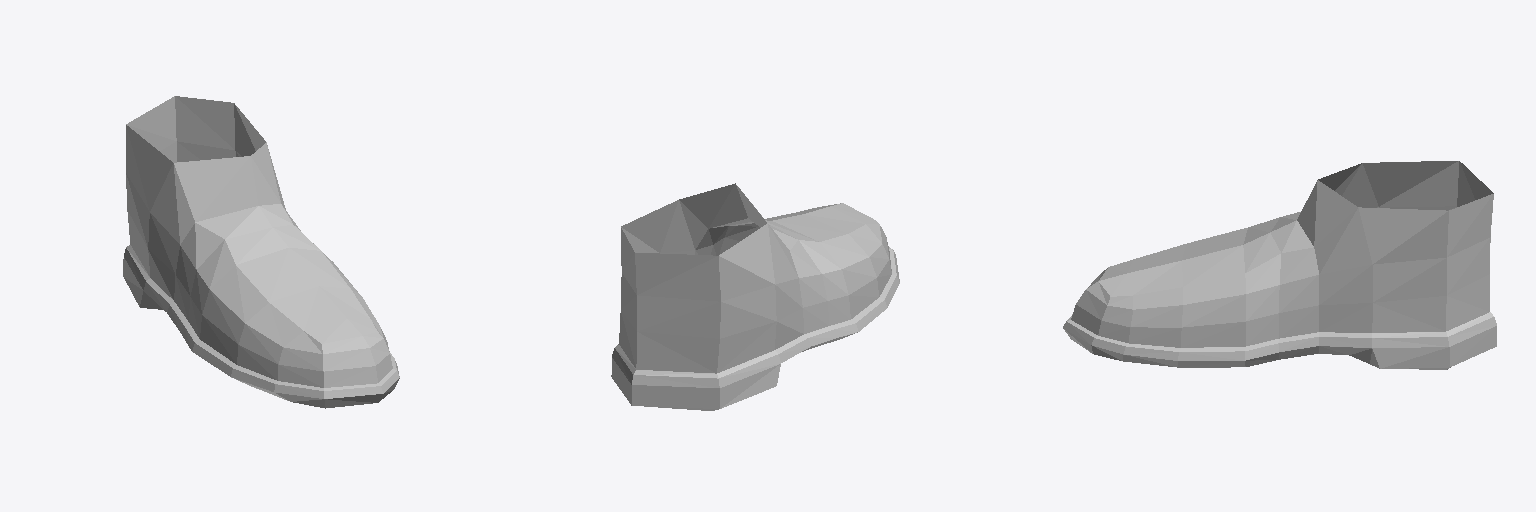
Rendered from Uth_Shoe_Rt_MshShape.obj.
The picture shows the model from 3 angles: view 1: azimuth 30°, elevation 25°; view 2: azimuth 150°, elevation 25°; view 3: azimuth 270°, elevation 25°; orthographic projection.
Parts seen in each view (by area): view 1: Uth_Shoe_Rt_Msh Uth_Body_Grp SkinnedMesh Mesh CharacterRoot; view 2: Uth_Shoe_Rt_Msh Uth_Body_Grp SkinnedMesh Mesh CharacterRoot; view 3: Uth_Shoe_Rt_Msh Uth_Body_Grp SkinnedMesh Mesh CharacterRoot.
Boxes of the visible parts, <box> form: Uth_Shoe_Rt_Msh Uth_Body_Grp SkinnedMesh Mesh CharacterRoot: <box>123,96,399,408</box>; Uth_Shoe_Rt_Msh Uth_Body_Grp SkinnedMesh Mesh CharacterRoot: <box>611,183,899,410</box>; Uth_Shoe_Rt_Msh Uth_Body_Grp SkinnedMesh Mesh CharacterRoot: <box>1063,161,1496,369</box>.
Size of the model in its own units: 14.96 by 15.33 by 36.37.